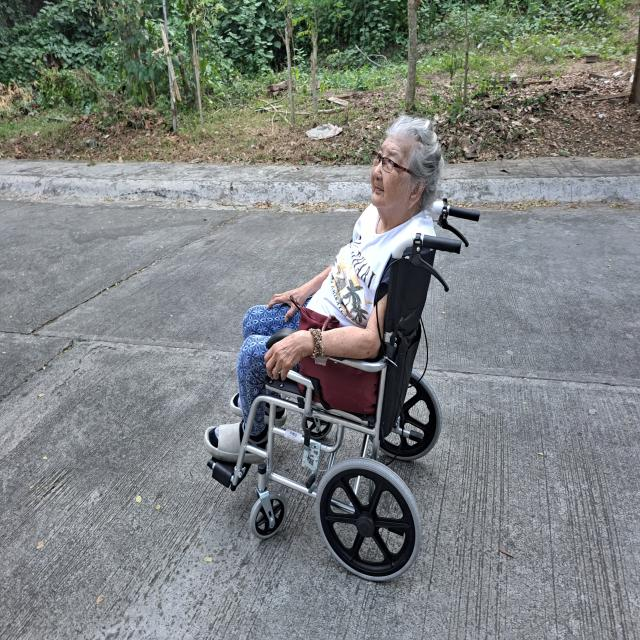wheelchairs: (197, 193, 484, 565)
